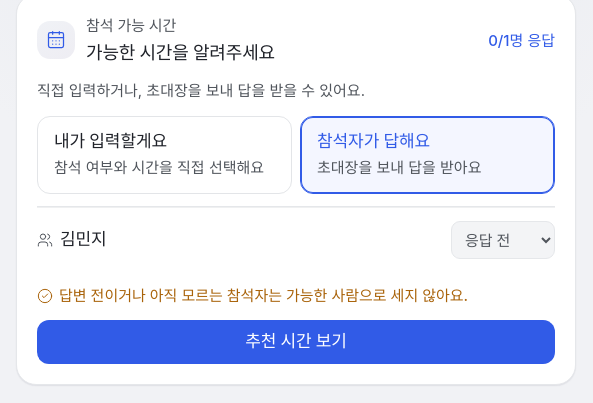
Test case: AvailabilityEditor › lets the organizer switch back to manual entry after creating invitations
Step 1. Click the button "내가 입력할게요 참석 여부와 시간을 직접 선택해요" → (164, 155), box [37,116,292,194]
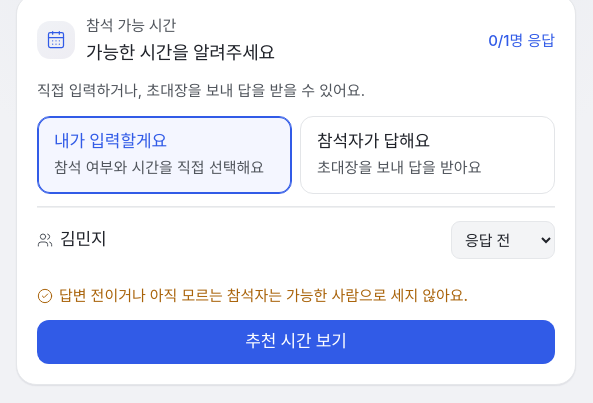
Result: the dropdown named "김민지 참석 상태" is enabled at [451,221,555,259]
Step 2. Click the button "참석자가 답해요 초대장을 보내 답을 받아요" → (428, 155), box [300,116,555,194]
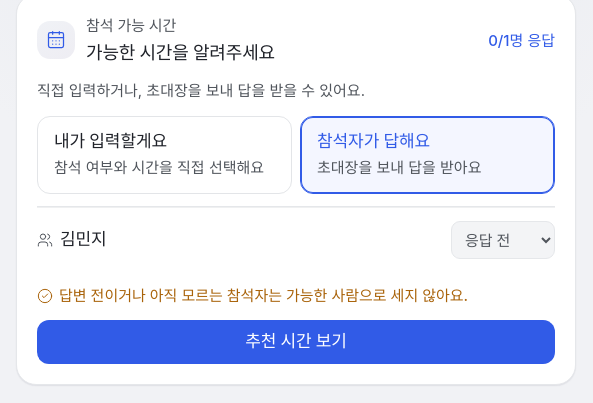
Result: the dropdown named "김민지 참석 상태" is disabled at [451,221,555,259]
